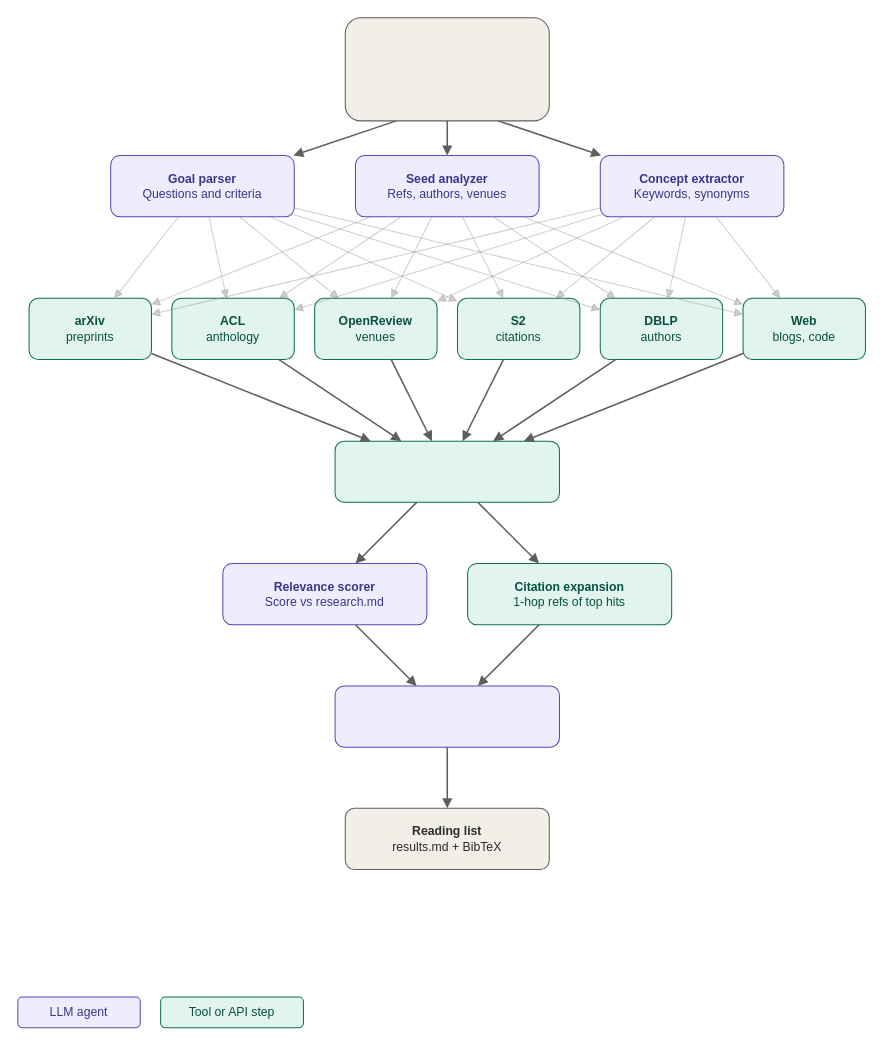
This 883x1046 diagram has some shape labels left out. The shapes that lost their labels are listed below. From the top down, each one's centre as x and y in pixels, then its label:
At (x=446, y=69): "MY_RESEARCH . └── researches/ └── MY_RESEARCH / ├── research.md └── paper_seeds/".
At (x=446, y=471): "Merge and dedup Match by DOI and title".
At (x=446, y=716): "Rank and cluster Group by subtopic".
